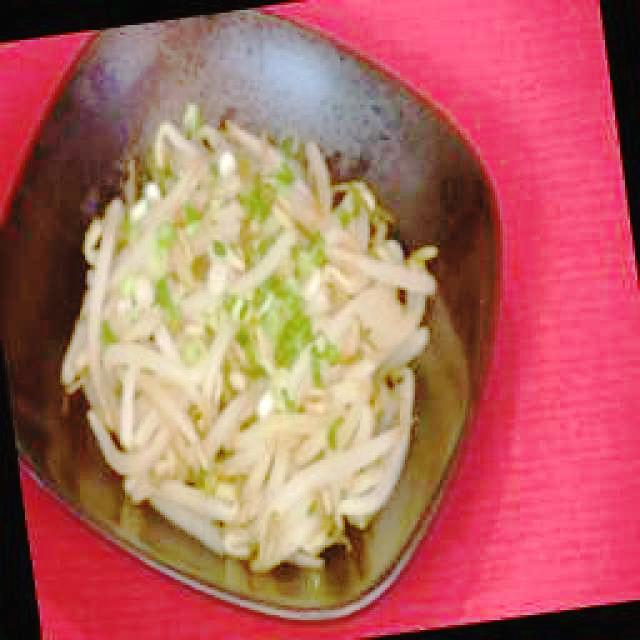mung_bean_sprouts: (71, 108, 437, 572)
